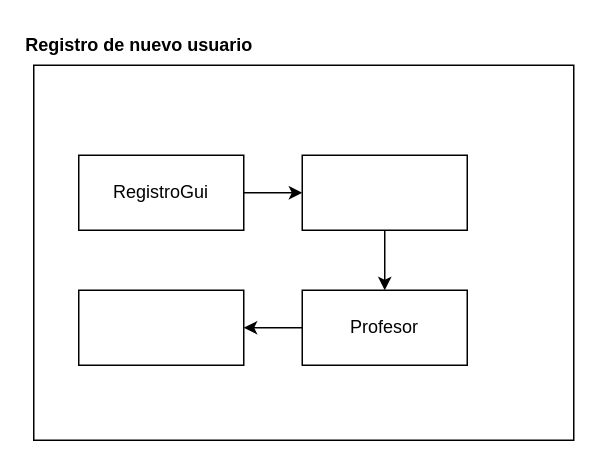
The diagram is 600 pixels wide and 467 high, and some of its shapes have lost their labels. The shapes that lost their labels are listed below. From the top down, each one's centre as x and y in pixels, then its label:
the point at 384,192: ArchivoPersistencia
the point at 160,327: Estudiante
